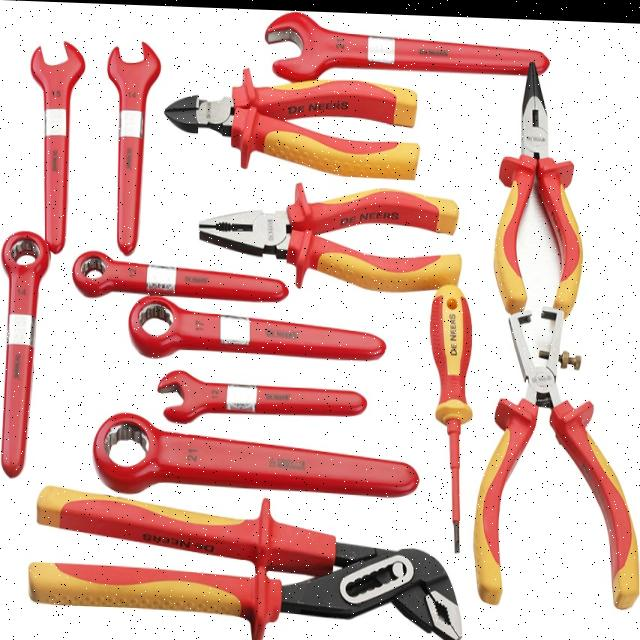Screwdriver: (430, 281, 472, 549)
